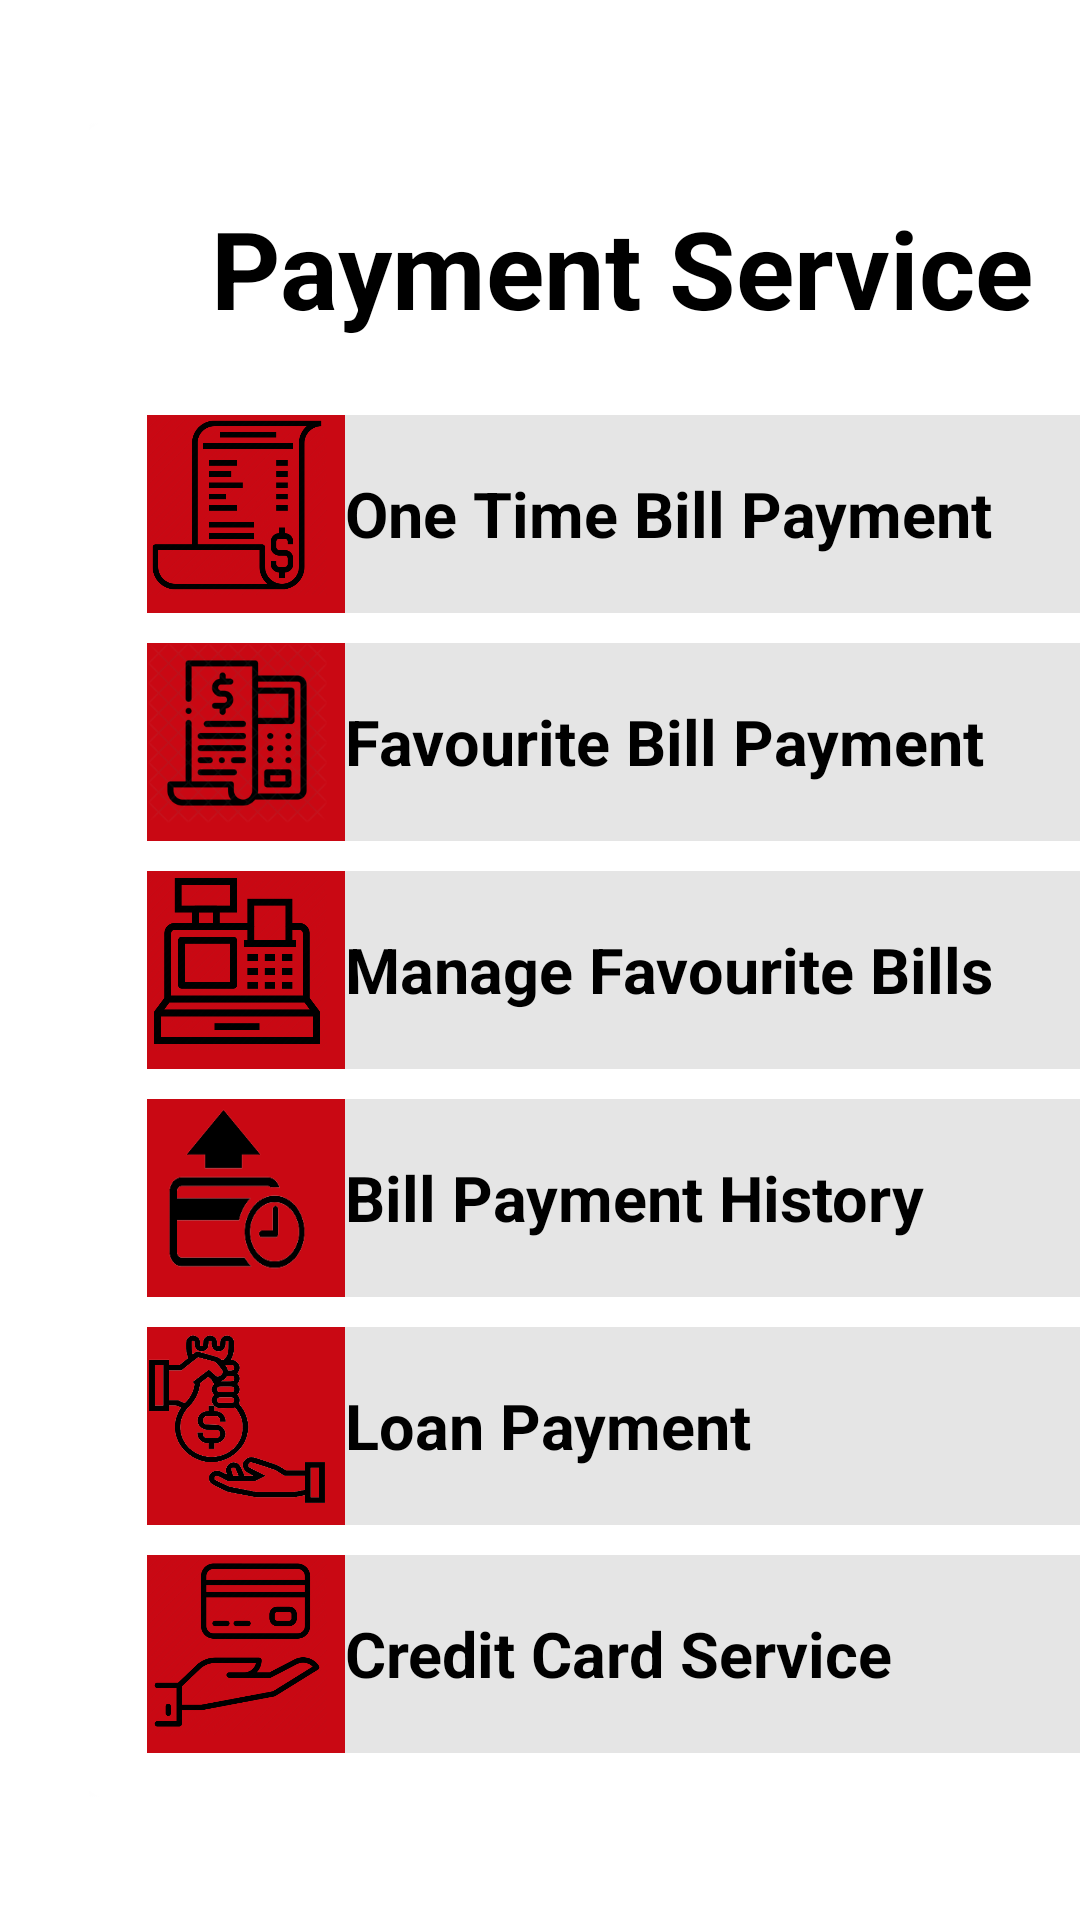

Icons on this 1080*1920 Android screen, each with its box as (x1,y1,x2,y2):
bill manage: (154,878,320,1044)
loan service: (149,1335,325,1503)
